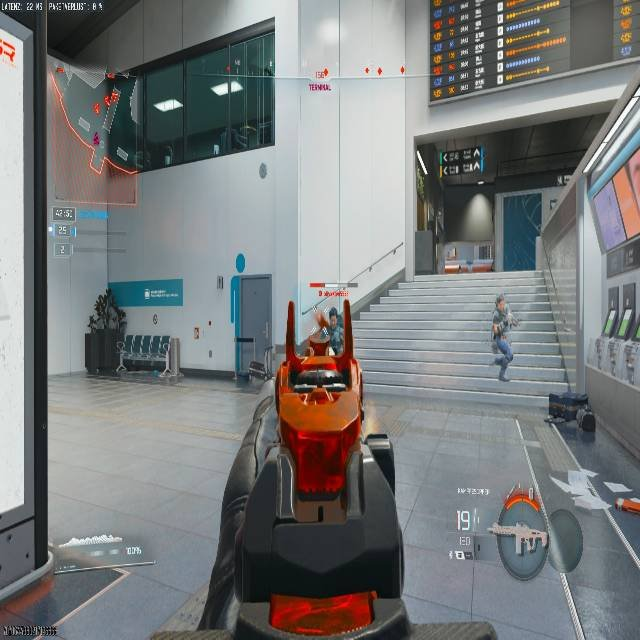head: (98, 287, 114, 306), (495, 293, 506, 309)
player: (86, 288, 128, 377), (490, 293, 519, 383), (303, 307, 339, 358)
